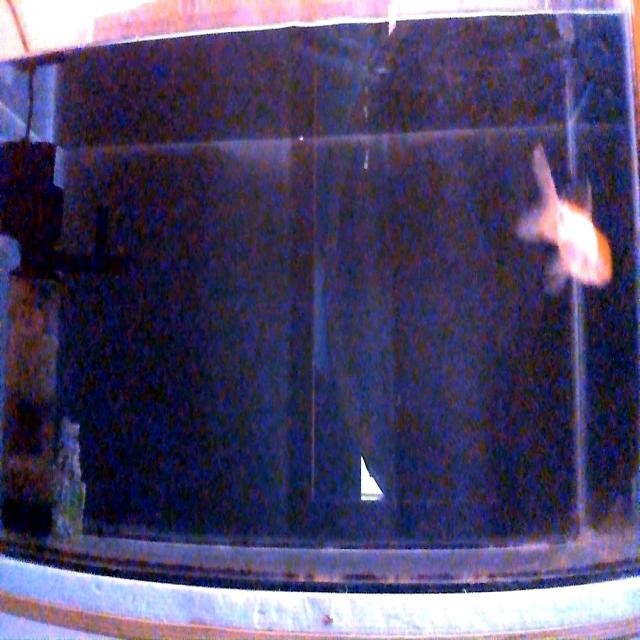fish: (516, 142, 614, 290)
